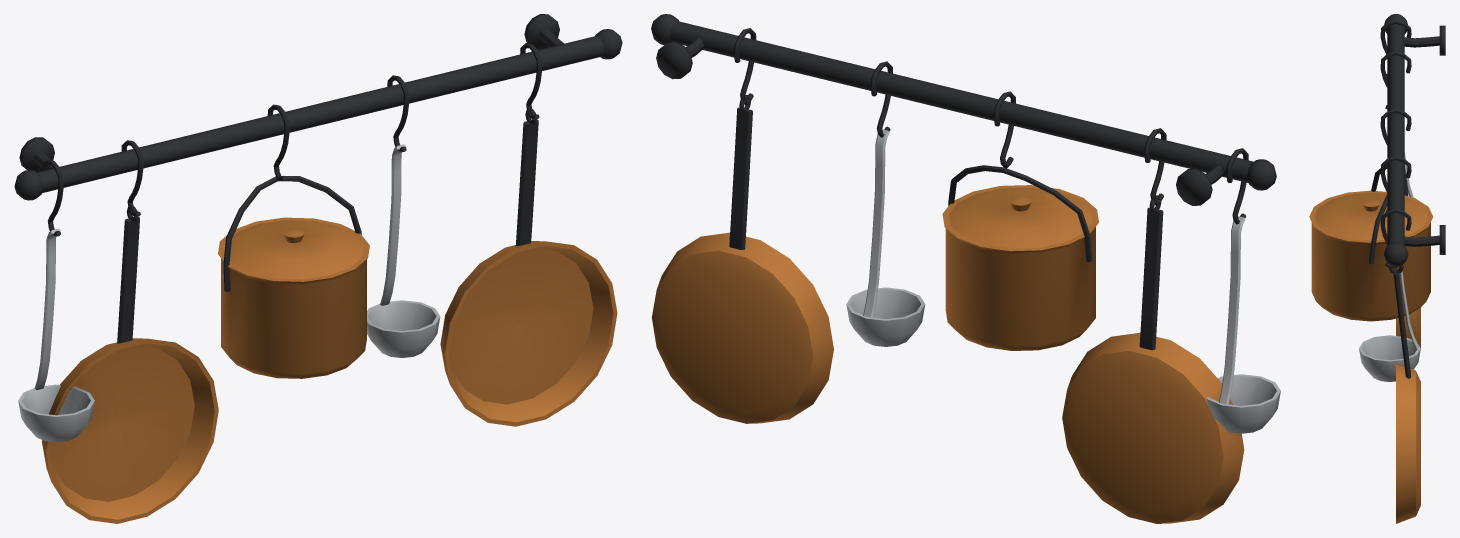
Rendered from potRail.glb.
3 views of the same model, side by side, from view 1: azimuth 30°, elevation 25°; view 2: azimuth 150°, elevation 25°; view 3: azimuth 270°, elevation 25° (orthographic). The views are drawn at different scales.
Visible parts, largest first — view 1: body; view 2: body; view 3: body.
Part boxes in pixels (x1=…): body: x1=14, y1=14, x2=622, y2=523; body: x1=651, y1=14, x2=1280, y2=523; body: x1=1309, y1=14, x2=1445, y2=523.
Size of the model in its own units: 0.908 by 0.5455 by 0.22.
